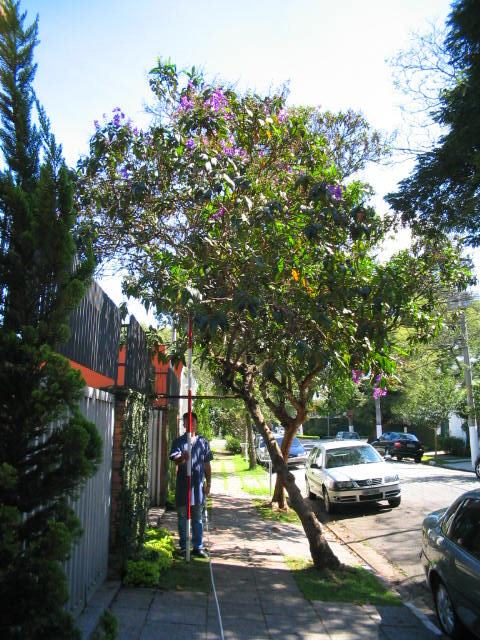crown: (76, 59, 456, 396)
stem: (235, 398, 354, 575)
stick: (179, 312, 199, 562)
tree: (75, 56, 457, 575)
